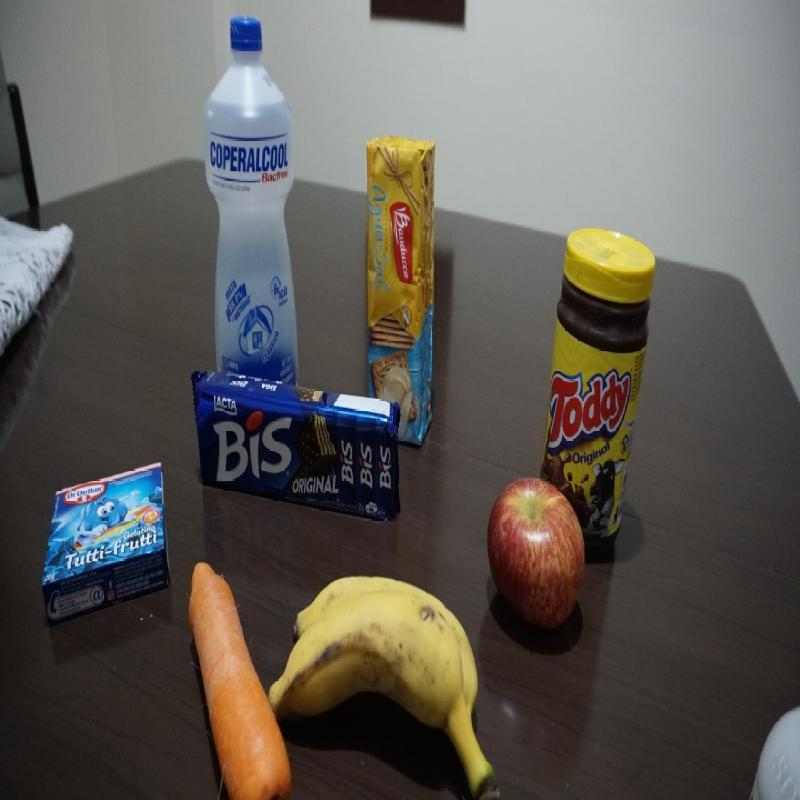Alcohol Bottle: (204, 15, 300, 378)
Apple: (486, 476, 587, 635)
Banana: (288, 569, 502, 800)
Carrot: (185, 561, 282, 796)
Chocolate Powder: (542, 224, 655, 472)
Cracker: (367, 136, 433, 403)
Gelatine: (39, 467, 172, 612)
